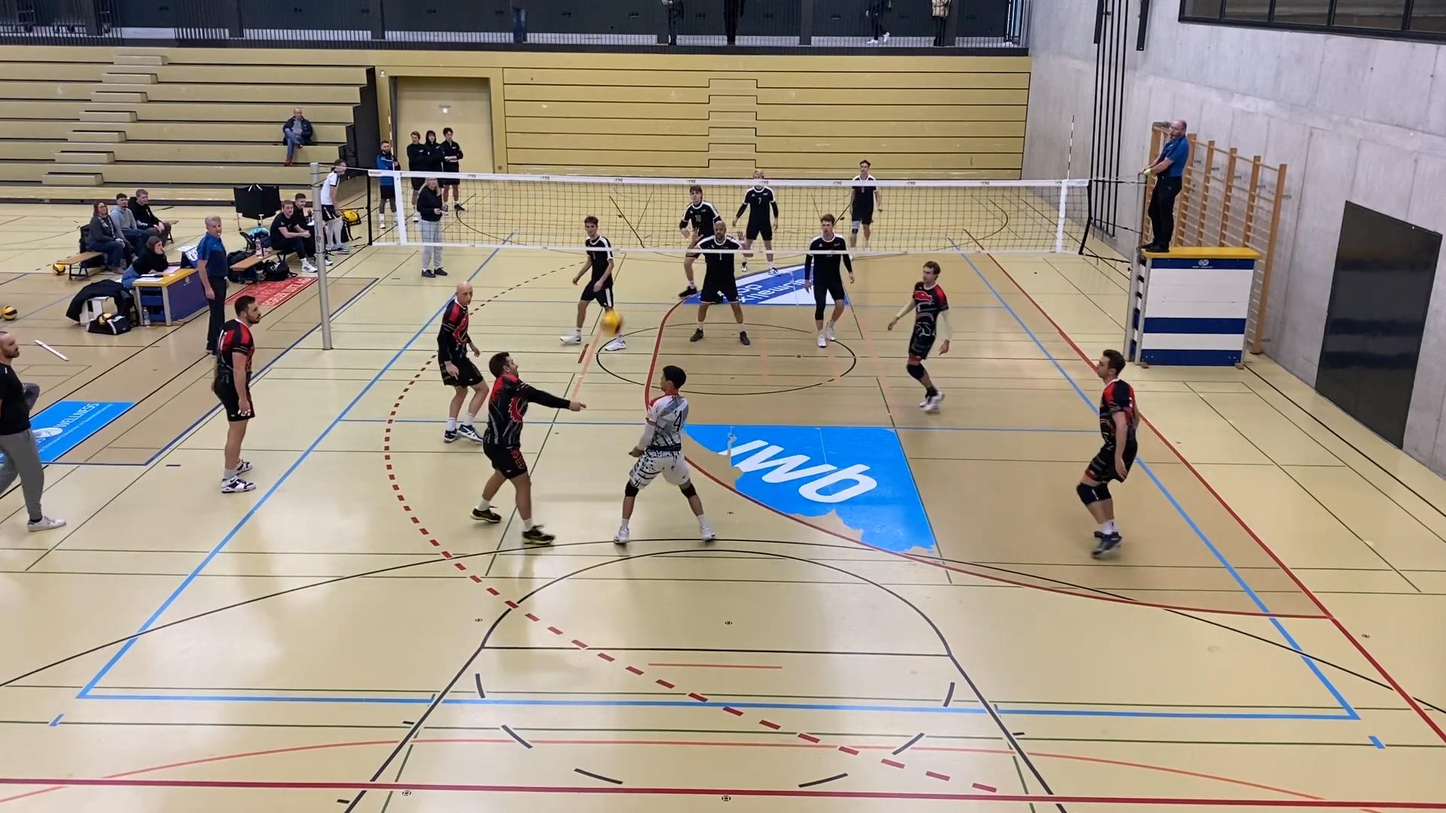Player: (615, 365, 715, 544), (1077, 349, 1138, 556), (887, 260, 951, 413), (213, 295, 261, 493), (688, 218, 750, 345), (438, 282, 487, 442), (560, 216, 615, 344), (804, 214, 853, 347), (733, 172, 779, 272), (679, 186, 719, 297), (850, 160, 881, 249)
Receive: (460, 343, 588, 553)
ball: (595, 308, 627, 338)
